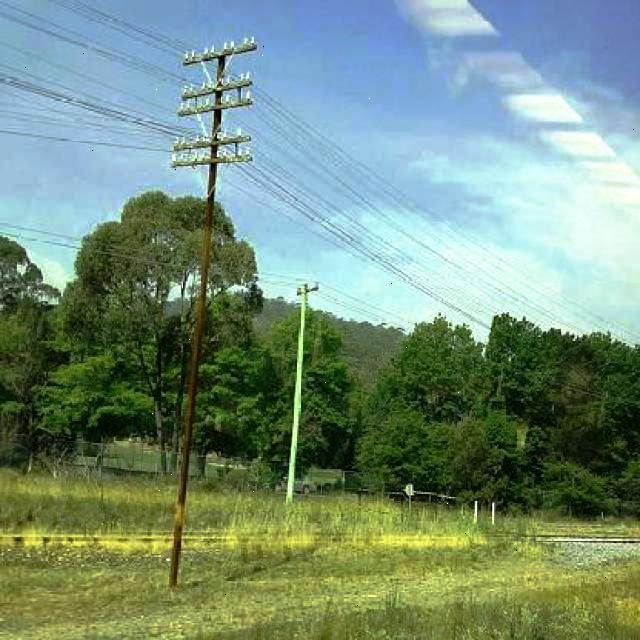poles: (157, 33, 268, 579), (275, 268, 331, 505)
wires: (254, 87, 524, 350), (0, 1, 196, 165), (1, 216, 196, 279), (212, 256, 296, 298)
